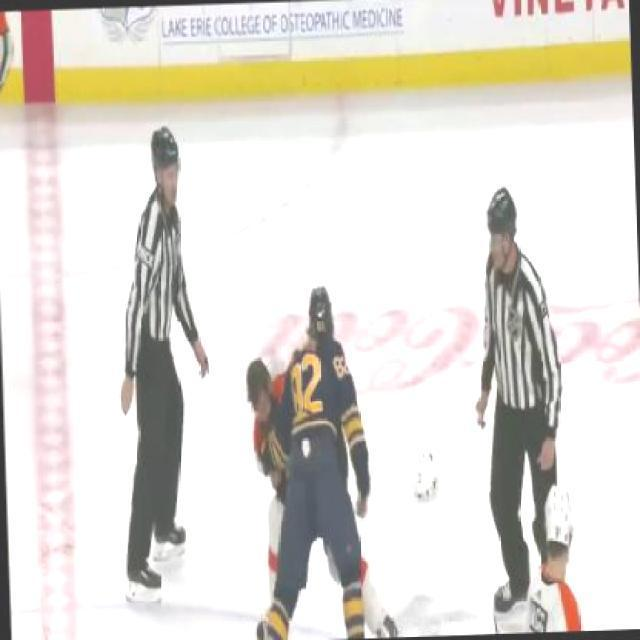non-fight: (90, 121, 224, 608), (242, 283, 384, 639), (466, 177, 574, 634)
